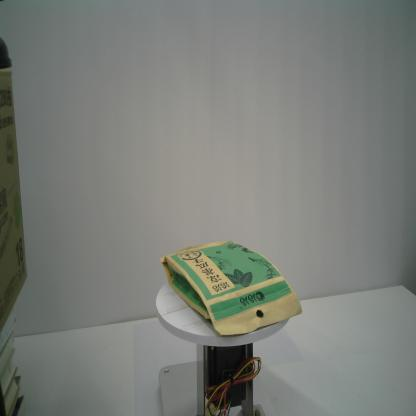Dried Food: (159, 238, 304, 340)
